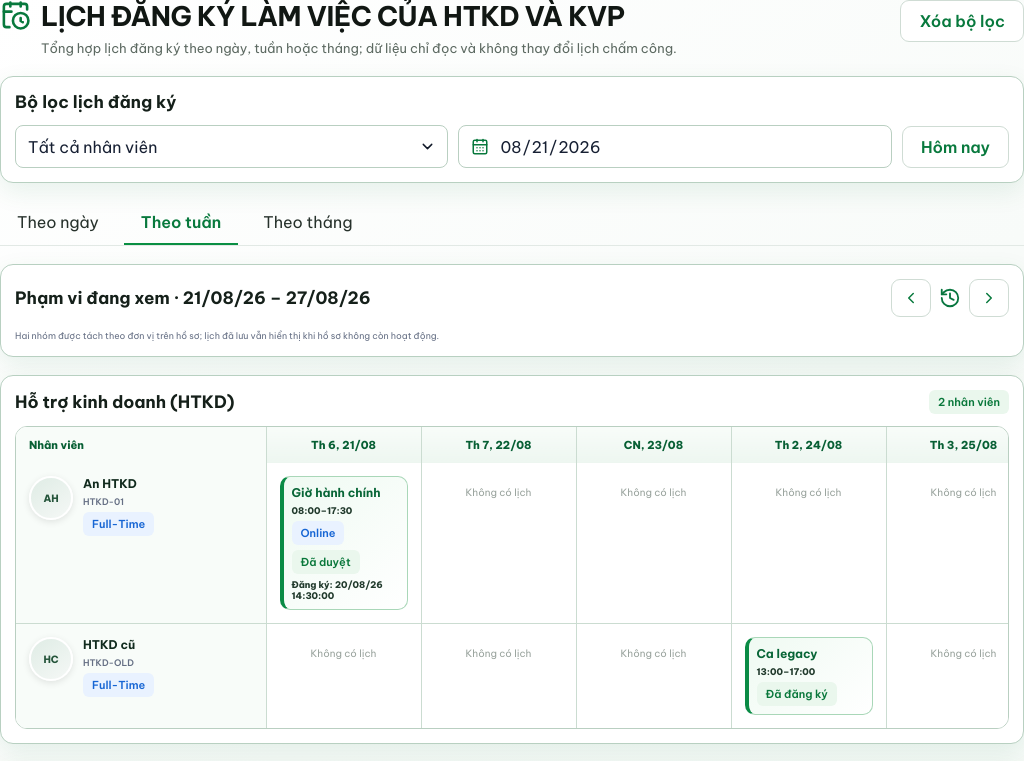
Test: Admin work registration schedule › filters by employee and resets the employee, date, and view filters
Select "Bình KVP" in the dropdown named "Chọn nhân viên" at (221, 146), box [28,126,414,167]
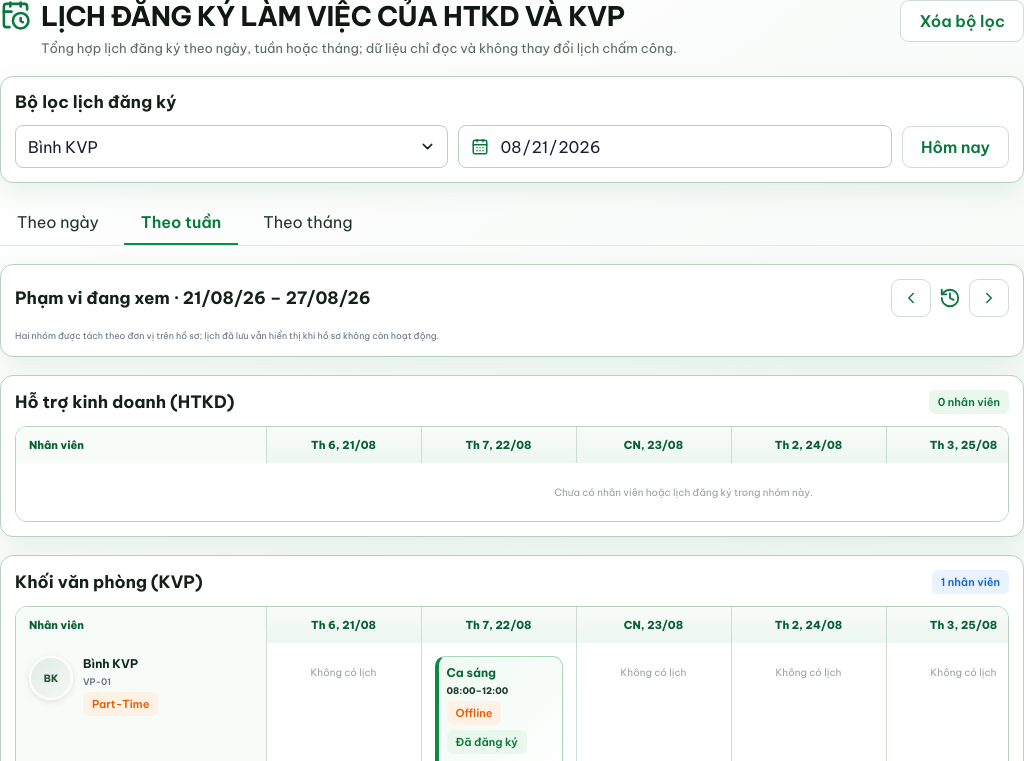
Expected: the text "Bình KVP" is shown, [83,656,138,671]
Result: the text "An HTKD" is gone
Type "2026-02-14" into the date field named "Ngày tham chiếu lịch đăng ký" at (689, 146), box [498,126,879,167]
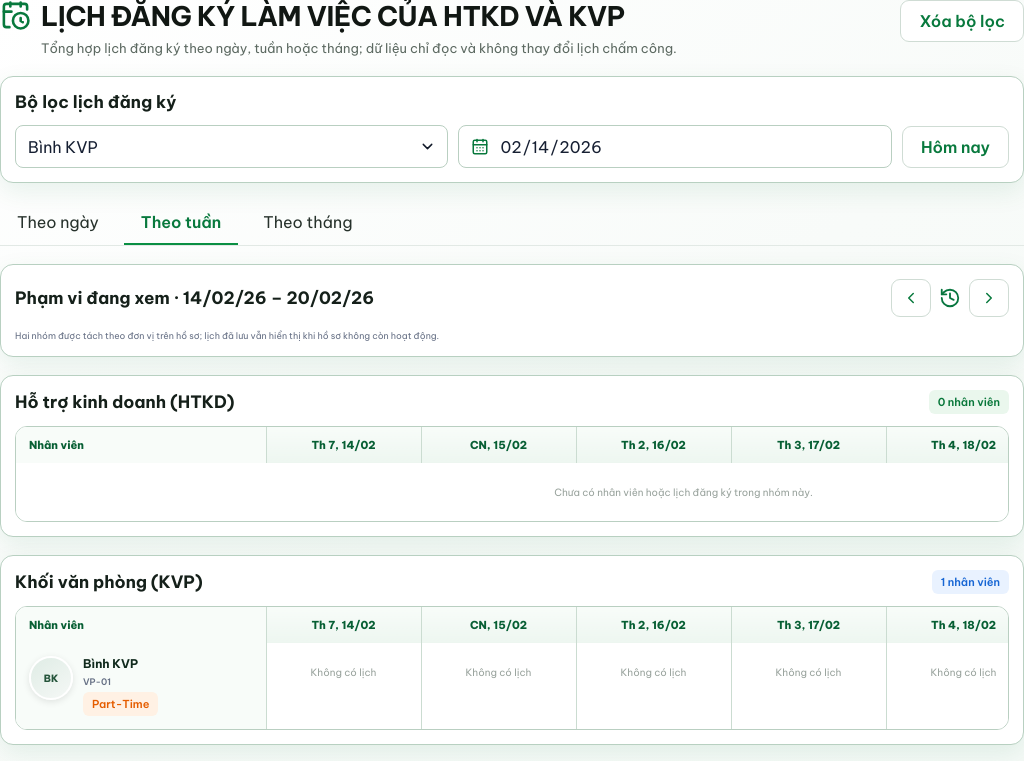
Click the tab "Theo tháng" at (308, 223), box [246,201,370,245]
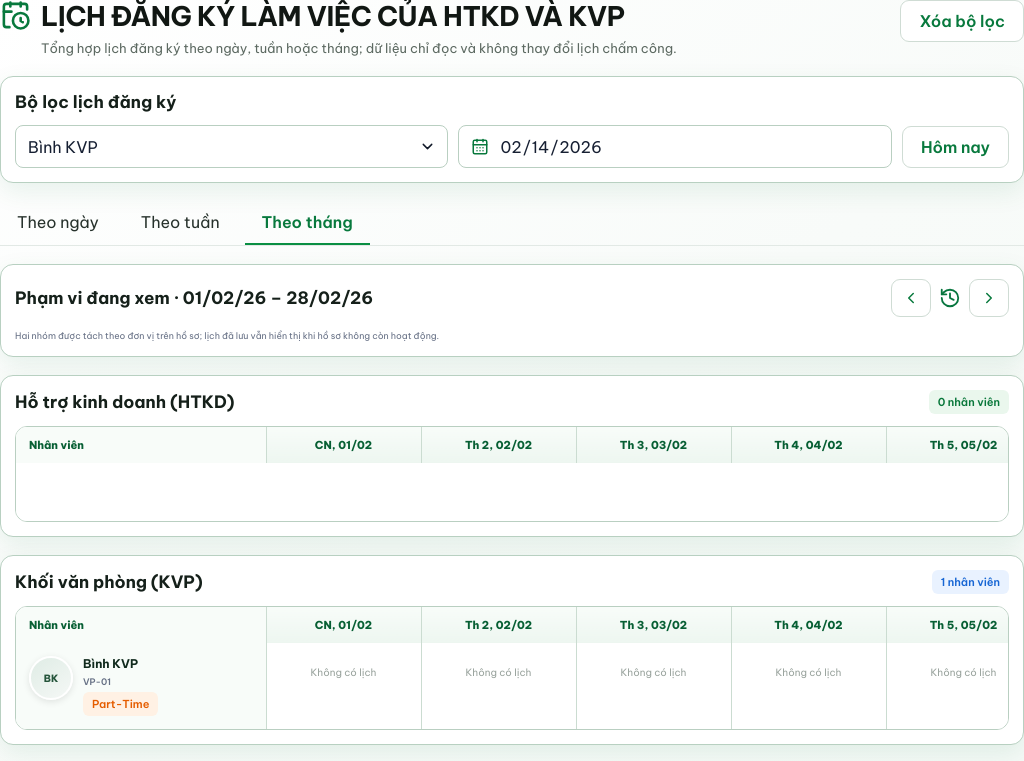
Click the button "Xóa bộ lọc" at (962, 21), box [900,0,1023,42]
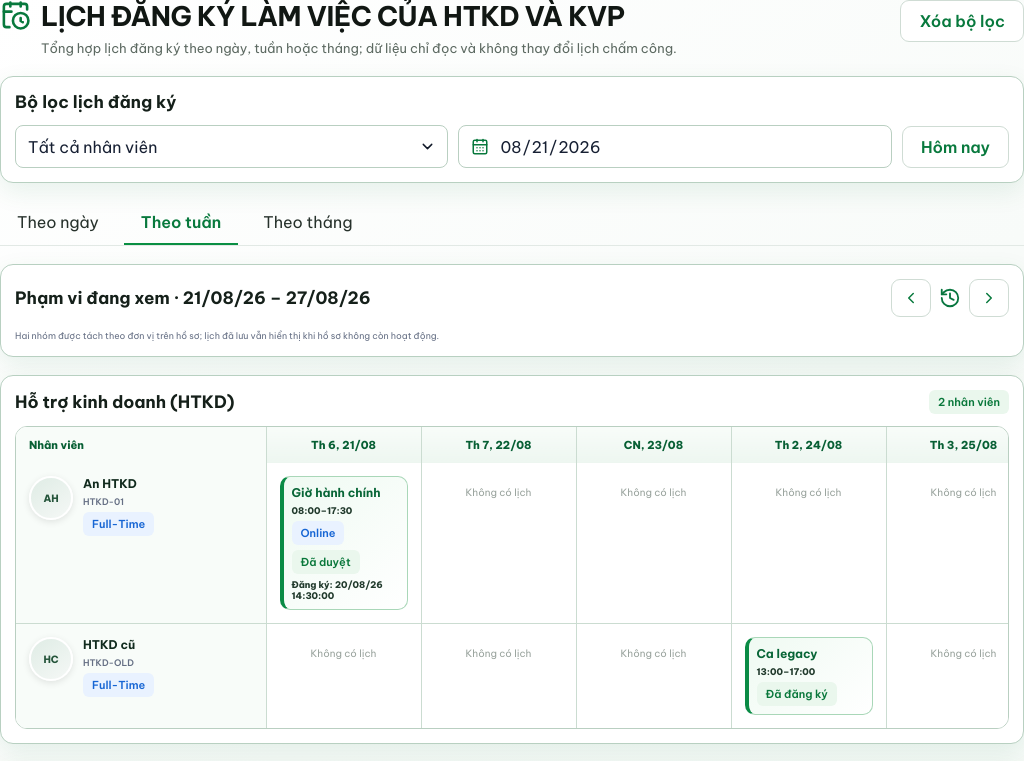
Result: the date field named "Ngày tham chiếu lịch đăng ký" holds "2026-08-21" at [498,126,879,167]
